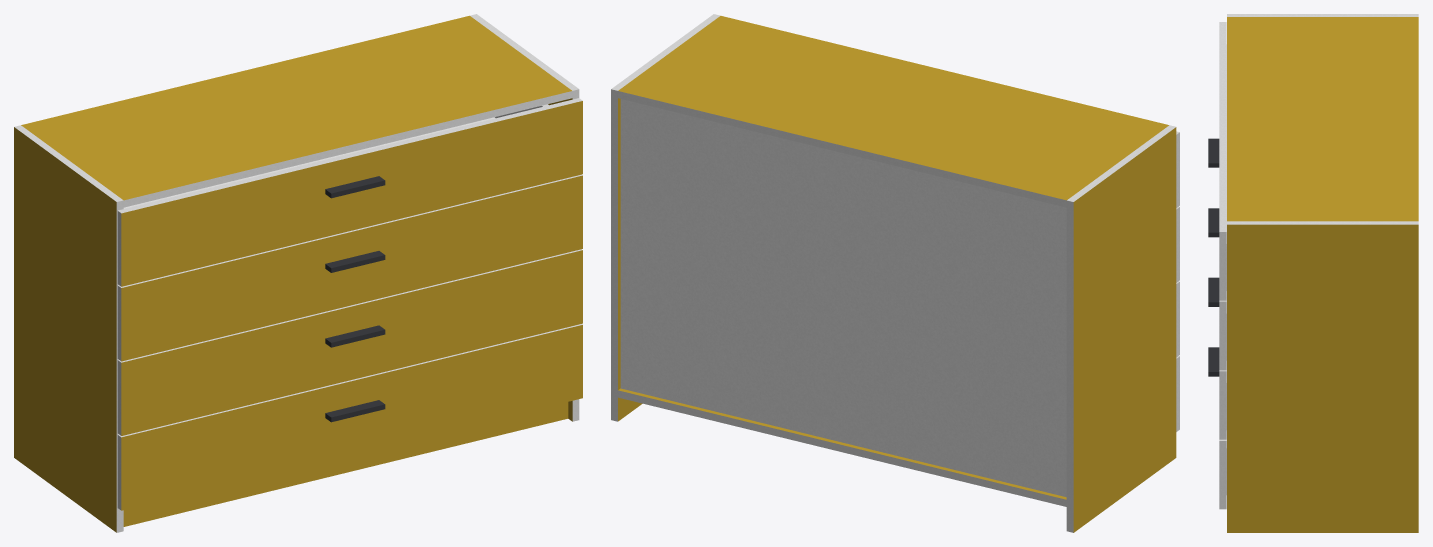
The model's file is FET-PDR-std.glb.
The picture shows the model from 3 angles, left to right: view 1: azimuth 30°, elevation 25°; view 2: azimuth 150°, elevation 25°; view 3: azimuth 270°, elevation 25°; orthographic projection. The views are drawn at different scales.
Parts seen in each view (by area): view 1: top:pbr, side-l:pbr, d2-front:pbr, d3-front:pbr, d4-front:pbr, d1-front:pbr, plinth:pbr, top:sheet:eyJtIjoibWRmIiwic2lkZSI6ImVkZ2UtbG9uZyIsInNlZWQiOj, pull, d4-front:sheet:eyJtIjoibWRmIiwic2lkZSI6ImVkZ2UtbG9uZyIsInNlZ, d2-front:sheet:eyJtIjoibWRmIiwic2lkZSI6ImVkZ2UtbG9uZyIsInNlZ, d1-front:sheet:eyJtIjoibWRmIiwic2lkZSI6ImVkZ2UtbG9uZyIsInNlZ (+5 smaller); view 2: back:sheet:eyJtIjoibWRmIiwic2lkZSI6ImZhY2UiLCJzZWVkIjo0LCJ0a, top:pbr, side-l:pbr, top:sheet:eyJtIjoibWRmIiwic2lkZSI6ImVkZ2UtbG9uZyIsInNlZWQiOj, bottom:sheet:eyJtIjoibWRmIiwic2lkZSI6ImVkZ2UtbG9uZyIsInNlZWQ, side-l:sheet:eyJtIjoibWRmIiwic2lkZSI6ImVkZ2UtbG9uZyIsInNlZWQ, side-r:sheet:eyJtIjoibWRmIiwic2lkZSI6ImVkZ2UtbG9uZyIsInNlZWQ, bottom:pbr, side-r:pbr, side-l:sheet:eyJtIjoibWRmIiwic2lkZSI6ImVkZ2UtZW5kIiwic2VlZCI, side-r:sheet:eyJtIjoibWRmIiwic2lkZSI6ImVkZ2UtZW5kIiwic2VlZCI; view 3: side-r:pbr, top:pbr, d4-front:sheet:eyJtIjoibWRmIiwic2lkZSI6ImVkZ2UtbG9uZyIsInNlZ, pull, side-r:sheet:eyJtIjoibWRmIiwic2lkZSI6ImVkZ2UtZW5kIiwic2VlZCI, side-l:sheet:eyJtIjoibWRmIiwic2lkZSI6ImVkZ2UtZW5kIiwic2VlZCI, d3-front:sheet:eyJtIjoibWRmIiwic2lkZSI6ImVkZ2UtZW5kIiwic2VlZ, d1-front:sheet:eyJtIjoibWRmIiwic2lkZSI6ImVkZ2UtZW5kIiwic2VlZ, d2-front:sheet:eyJtIjoibWRmIiwic2lkZSI6ImVkZ2UtZW5kIiwic2VlZ, d4-front:sheet:eyJtIjoibWRmIiwic2lkZSI6ImVkZ2UtZW5kIiwic2VlZ.
Boxes of the visible parts, x1,y1,x2,y2 form: top:pbr: [21, 15, 571, 200]; side-l:pbr: [14, 127, 116, 532]; d2-front:pbr: [121, 250, 582, 435]; d3-front:pbr: [121, 175, 582, 361]; d4-front:pbr: [121, 101, 582, 286]; d1-front:pbr: [121, 325, 582, 510]; plinth:pbr: [123, 402, 568, 526]; top:sheet:eyJtIjoibWRmIiwic2lkZSI6ImVkZ2UtbG9uZyIsInNlZWQiOj: [123, 91, 572, 207]; pull: [325, 176, 385, 422]; d4-front:sheet:eyJtIjoibWRmIiwic2lkZSI6ImVkZ2UtbG9uZyIsInNlZ: [118, 98, 582, 213]; d2-front:sheet:eyJtIjoibWRmIiwic2lkZSI6ImVkZ2UtbG9uZyIsInNlZ: [118, 249, 582, 362]; d1-front:sheet:eyJtIjoibWRmIiwic2lkZSI6ImVkZ2UtbG9uZyIsInNlZ: [118, 324, 582, 437]; back:sheet:eyJtIjoibWRmIiwic2lkZSI6ImZhY2UiLCJzZWVkIjo0LCJ0a: [620, 99, 1066, 497]; top:pbr: [618, 16, 1168, 200]; side-l:pbr: [1073, 127, 1176, 532]; top:sheet:eyJtIjoibWRmIiwic2lkZSI6ImVkZ2UtbG9uZyIsInNlZWQiOj: [618, 91, 1066, 207]; bottom:sheet:eyJtIjoibWRmIiwic2lkZSI6ImVkZ2UtbG9uZyIsInNlZWQ: [618, 390, 1066, 506]; side-l:sheet:eyJtIjoibWRmIiwic2lkZSI6ImVkZ2UtbG9uZyIsInNlZWQ: [1066, 200, 1073, 532]; side-r:sheet:eyJtIjoibWRmIiwic2lkZSI6ImVkZ2UtbG9uZyIsInNlZWQ: [611, 89, 617, 421]; bottom:pbr: [618, 388, 1066, 499]; side-r:pbr: [618, 98, 642, 421]; side-l:sheet:eyJtIjoibWRmIiwic2lkZSI6ImVkZ2UtZW5kIiwic2VlZCI: [1067, 125, 1175, 201]; side-r:sheet:eyJtIjoibWRmIiwic2lkZSI6ImVkZ2UtZW5kIiwic2VlZCI: [611, 14, 720, 90]; side-r:pbr: [1227, 224, 1418, 532]; top:pbr: [1227, 17, 1418, 221]; d4-front:sheet:eyJtIjoibWRmIiwic2lkZSI6ImVkZ2UtbG9uZyIsInNlZ: [1219, 22, 1226, 231]; pull: [1208, 138, 1219, 376]; side-r:sheet:eyJtIjoibWRmIiwic2lkZSI6ImVkZ2UtZW5kIiwic2VlZCI: [1227, 221, 1418, 224]; side-l:sheet:eyJtIjoibWRmIiwic2lkZSI6ImVkZ2UtZW5kIiwic2VlZCI: [1227, 14, 1418, 16]; d3-front:sheet:eyJtIjoibWRmIiwic2lkZSI6ImVkZ2UtZW5kIiwic2VlZ: [1219, 301, 1226, 370]; d1-front:sheet:eyJtIjoibWRmIiwic2lkZSI6ImVkZ2UtZW5kIiwic2VlZ: [1219, 441, 1226, 509]; d2-front:sheet:eyJtIjoibWRmIiwic2lkZSI6ImVkZ2UtZW5kIiwic2VlZ: [1219, 371, 1226, 439]; d4-front:sheet:eyJtIjoibWRmIiwic2lkZSI6ImVkZ2UtZW5kIiwic2VlZ: [1219, 232, 1226, 300].
Bounding box in the file's own units: 1.2 × 0.82 × 0.5069.
Materials: 91 (81 with a texture image).
